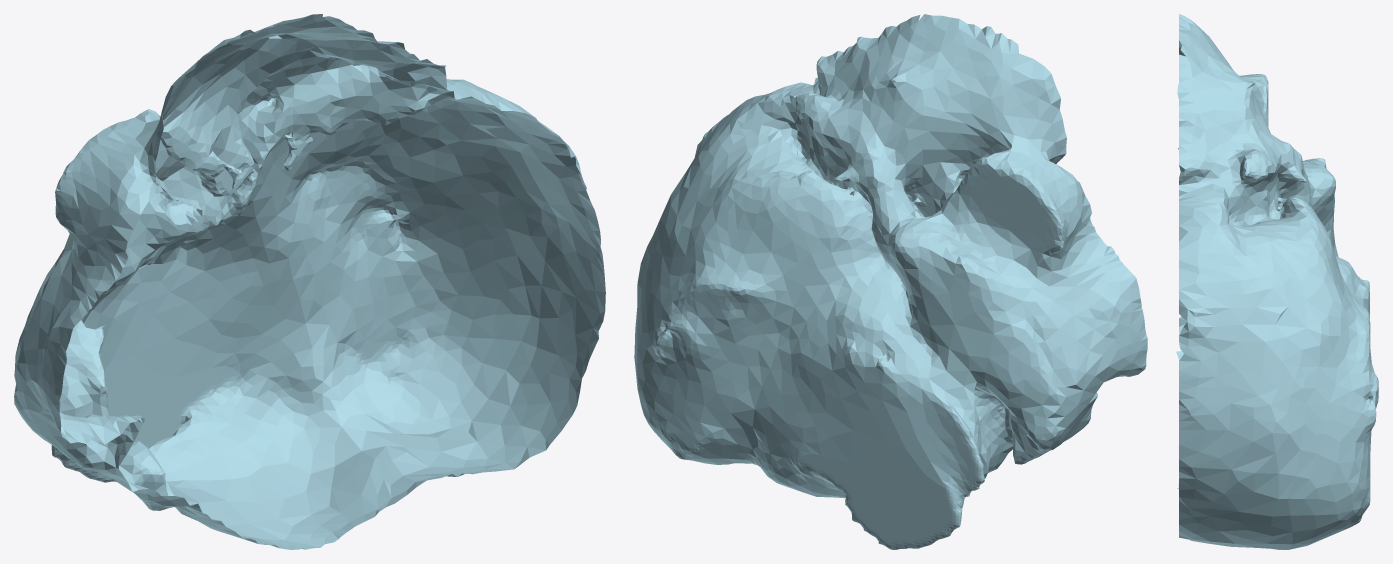
File: heart.obj
The picture shows the model from 3 angles, left to right: view 1: azimuth 30°, elevation 25°; view 2: azimuth 150°, elevation 25°; view 3: azimuth 270°, elevation 25°; orthographic projection. The views are drawn at different scales.
Visible parts, largest first — view 1: grp1; view 2: grp1; view 3: grp1.
Boxes of the visible parts, x1,y1,x2,y2 form: grp1: (14,14,605,549); grp1: (634,14,1147,549); grp1: (1176,14,1378,549).
Size of the model in its own units: 122 by 114 by 47.68.
